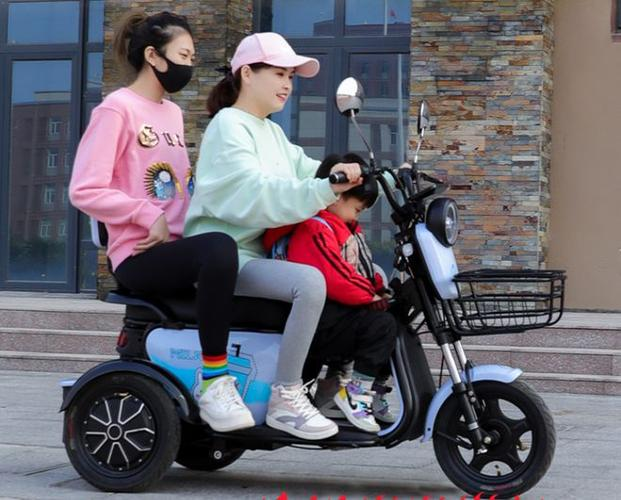driver: (181, 21, 392, 458)
overloading: (43, 8, 554, 499)
passenger: (56, 11, 252, 444), (287, 143, 413, 444)
